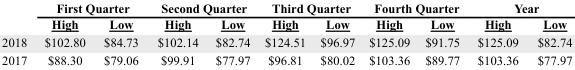table: (1, 0, 571, 66)
table column: (467, 0, 527, 66), (147, 0, 206, 66), (35, 0, 93, 66), (256, 0, 312, 66), (361, 0, 416, 66), (93, 0, 147, 66), (416, 0, 467, 66), (206, 0, 256, 66), (312, 0, 361, 66), (527, 0, 571, 66), (1, 0, 35, 66)
table column header: (1, 0, 571, 32)
table row: (1, 32, 571, 50), (1, 15, 571, 32), (1, 50, 571, 66), (1, 0, 571, 15)
table spanning cell: (35, 0, 147, 15), (147, 0, 256, 15), (361, 0, 467, 15), (256, 0, 361, 15), (467, 0, 571, 15)
